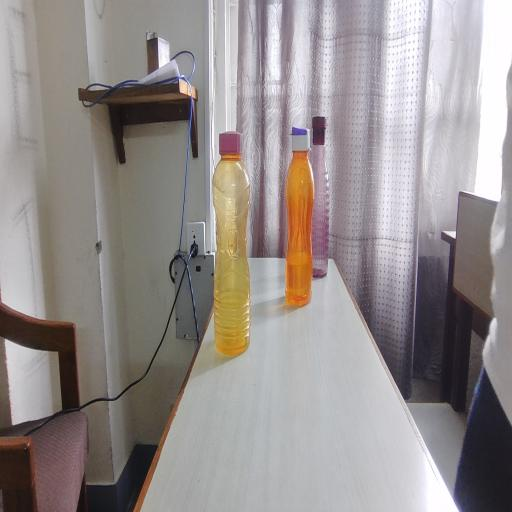Bottle: (211, 119, 262, 377), (286, 111, 337, 312)
